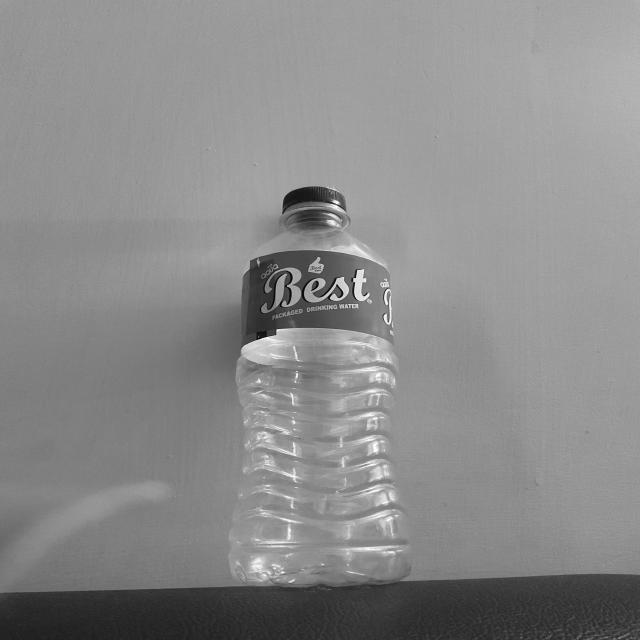Good-cap-Df0S: (280, 183, 351, 220)
